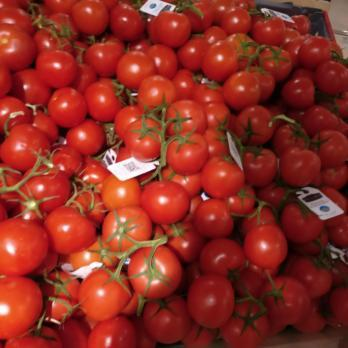Tomato: (2, 54, 348, 348)
